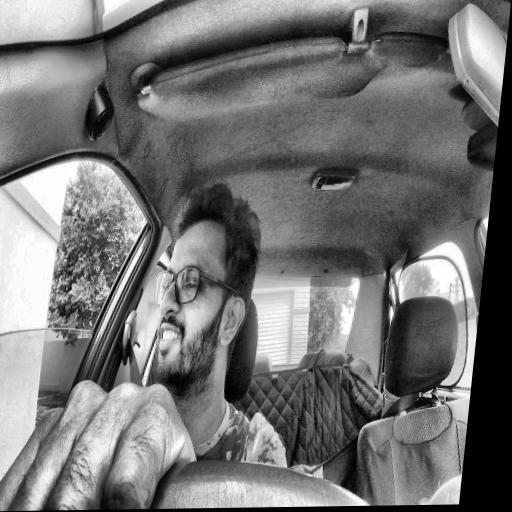awake: (143, 181, 268, 393)
